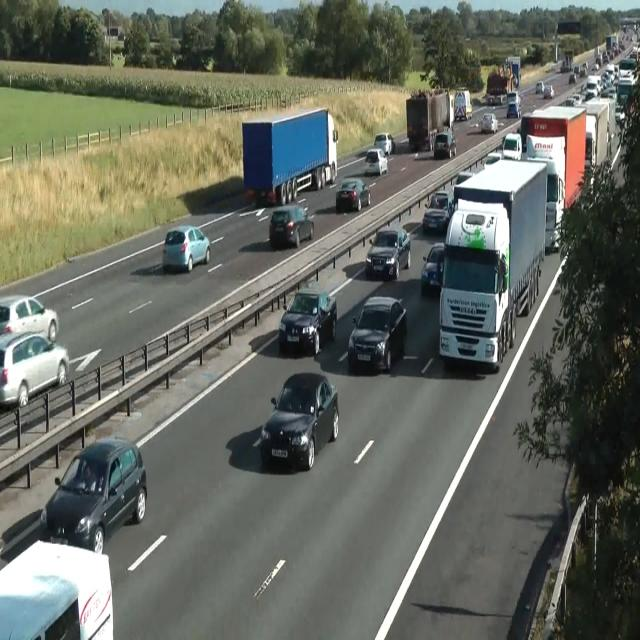bus: (39, 436, 147, 554), (259, 371, 339, 470), (0, 331, 70, 408), (0, 295, 59, 344), (162, 224, 210, 273), (268, 205, 314, 248), (422, 190, 452, 234), (335, 177, 371, 212), (421, 243, 445, 295), (544, 201, 560, 253), (363, 148, 388, 176), (433, 132, 456, 159), (374, 132, 395, 154), (480, 113, 498, 133), (483, 151, 502, 169), (456, 170, 473, 186), (506, 102, 521, 118), (506, 90, 520, 106), (542, 85, 554, 98), (535, 80, 544, 93), (568, 73, 576, 83)
jeep: (348, 294, 407, 372), (278, 288, 337, 355), (365, 224, 411, 280), (502, 132, 522, 160)
minibus: (438, 158, 548, 372), (502, 105, 586, 254), (242, 106, 338, 207), (562, 93, 616, 186), (406, 87, 454, 152), (486, 56, 520, 105), (454, 89, 472, 121), (506, 56, 520, 91)
